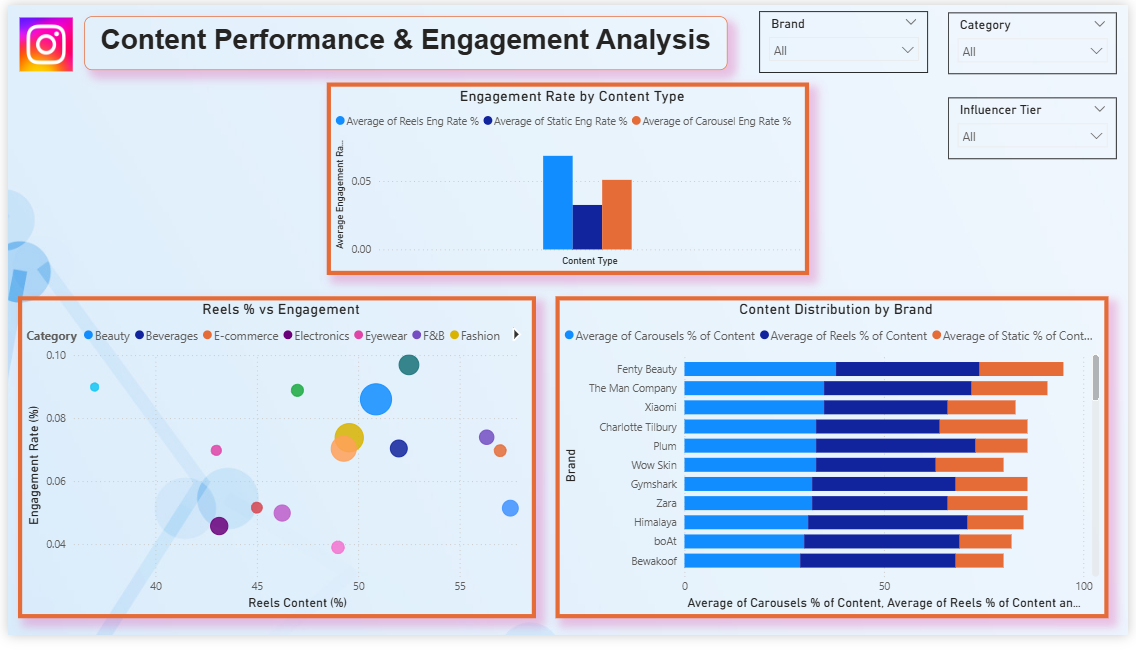

The dashboard page shown, as its layout file describes it:
{"tool":"powerbi","page":{"name":"Content Strategy Insights","canvas":[1280,720],"ordinal":1},"visuals":[{"type":"textbox","box":[87.5,12.5,735,61.2],"z":0},{"type":"image","box":[10,13.8,67.5,61.2],"z":1000},{"type":"scatterChart","title":"Reels % vs Engagement","fields":{"X":["Avg(cleaned_data.Reels % of Content)"],"Y":["Avg(cleaned_data.Reels Eng Rate %)"],"Size":["Sum(cleaned_data.Avg Likes)"],"Series":["cleaned_data.Category"]},"box":[11.7,333.3,591.7,368.3],"z":2000},{"type":"barChart","title":"Content Distribution by Brand","fields":{"Category":["cleaned_data.Brand"],"Y":["Avg(cleaned_data.Carousels % of Content)","Avg(cleaned_data.Reels % of Content)","Avg(cleaned_data.Static % of Content)"]},"box":[625,333.3,631.7,368.3],"z":3000},{"type":"clusteredColumnChart","title":"Engagement Rate by Content Type","fields":{"Y":["Avg(cleaned_data.Reels Eng Rate %)","Avg(cleaned_data.Static Eng Rate %)","Avg(cleaned_data.Carousel Eng Rate %)"]},"box":[364.3,88.6,551.4,220],"z":4000},{"type":"slicer","fields":{"Values":["cleaned_data.Brand"]},"box":[858.6,7.1,192.9,70],"z":5000},{"type":"slicer","fields":{"Values":["cleaned_data.Category"]},"box":[1074.3,8.6,192.9,70],"z":6000},{"type":"slicer","fields":{"Values":["cleaned_data.Influencer Tier"]},"box":[1074.3,105.7,192.9,70],"z":7000}]}

Visuals, with their boxes in screenshot pixels (x1, y1, x2, y2), scaled from the page's 1280x720 canvas onto the 1136x651 screenshot:
textbox: pyautogui.locateOnScreen(78, 11, 730, 67)
image: pyautogui.locateOnScreen(9, 12, 69, 68)
"Reels % vs Engagement" scatterChart: pyautogui.locateOnScreen(10, 301, 536, 634)
"Content Distribution by Brand" barChart: pyautogui.locateOnScreen(555, 301, 1115, 634)
"Engagement Rate by Content Type" clusteredColumnChart: pyautogui.locateOnScreen(323, 80, 813, 279)
slicer - cleaned_data.Brand: pyautogui.locateOnScreen(762, 6, 933, 70)
slicer - cleaned_data.Category: pyautogui.locateOnScreen(953, 8, 1125, 71)
slicer - cleaned_data.Influencer Tier: pyautogui.locateOnScreen(953, 96, 1125, 159)
